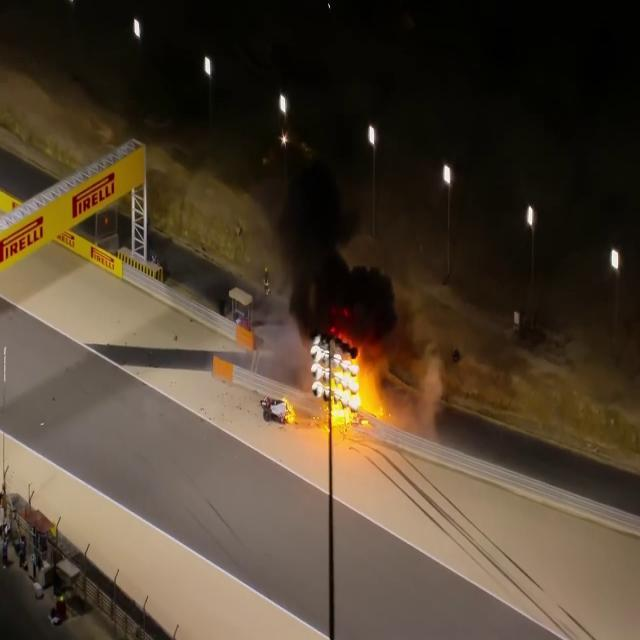Fire: (322, 346, 382, 426), (280, 394, 300, 427)
Smoke: (264, 154, 392, 344)
